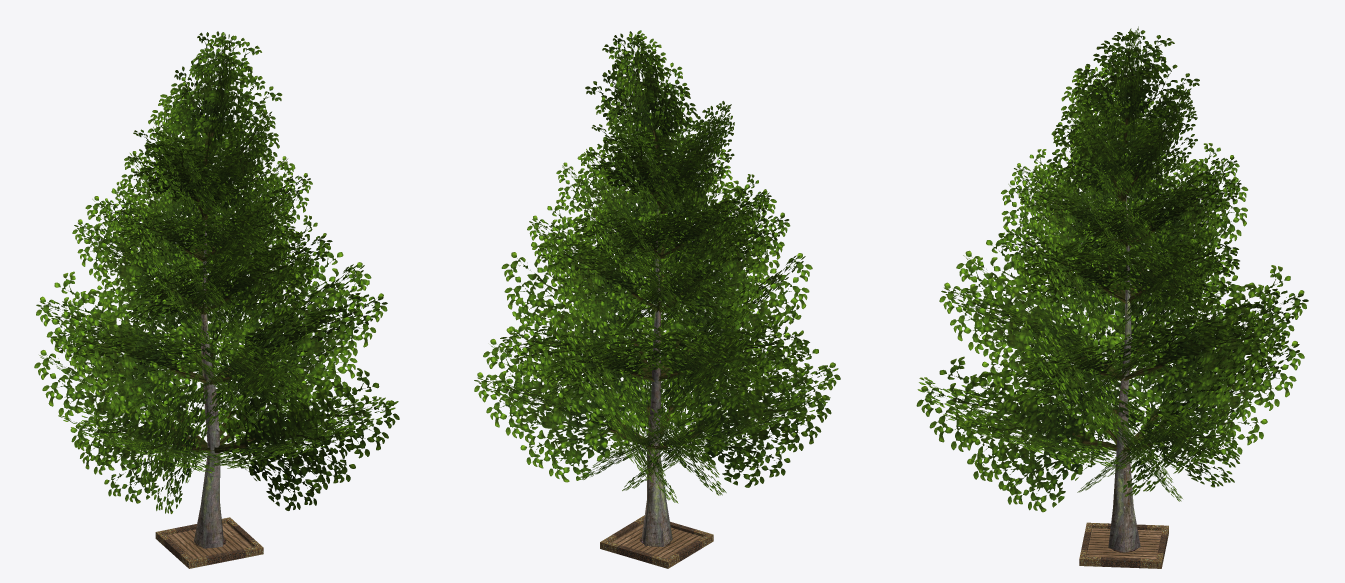
File: tree_g.FBX
3 renders of one model, left to right at view 1: azimuth 30°, elevation 25°; view 2: azimuth 150°, elevation 25°; view 3: azimuth 270°, elevation 25°, orthographic. The views are drawn at different scales.
Visible parts, largest first — view 1: tree_g; view 2: tree_g; view 3: tree_g.
Boxes of the visible parts, bbox=[...] form: tree_g: bbox=[34, 31, 399, 568]; tree_g: bbox=[474, 30, 840, 568]; tree_g: bbox=[916, 26, 1308, 568].
Bounding box in the file's own units: 20.49 × 29.16 × 21.27.
3 materials, 3 textured.
